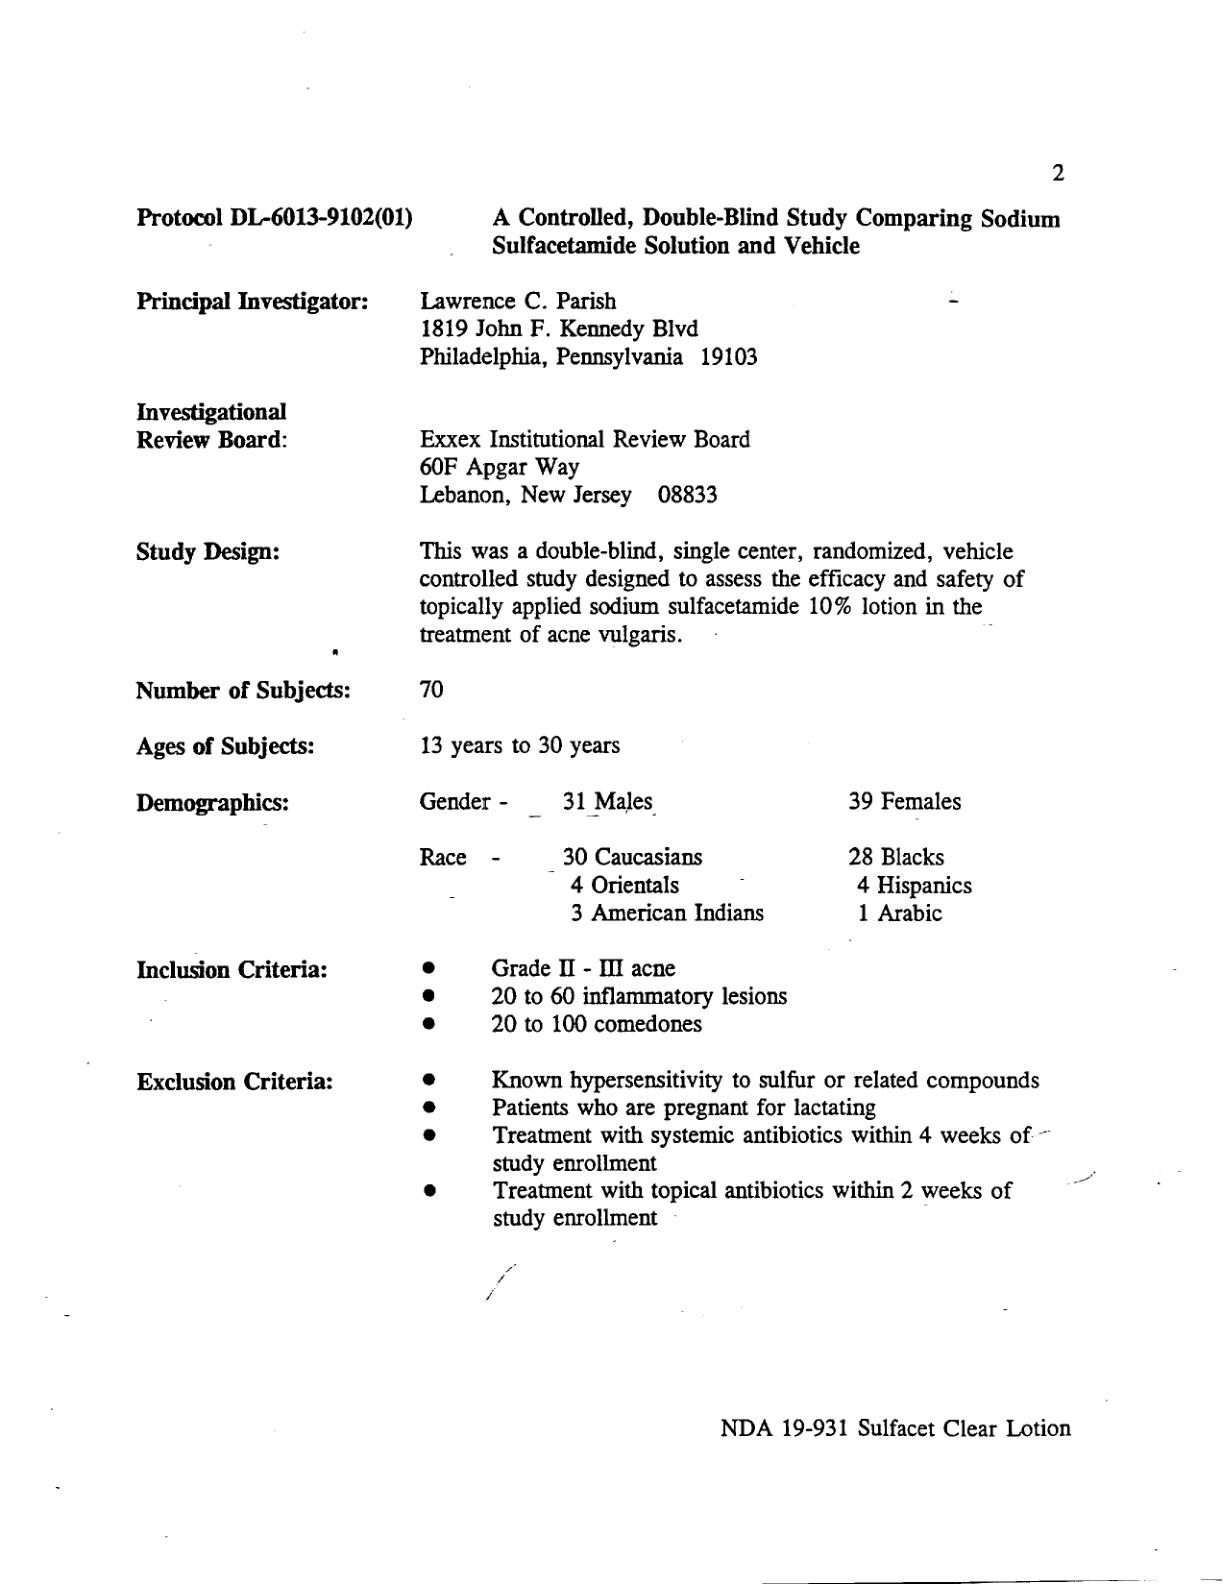nolines: (132, 202, 1062, 1233)
